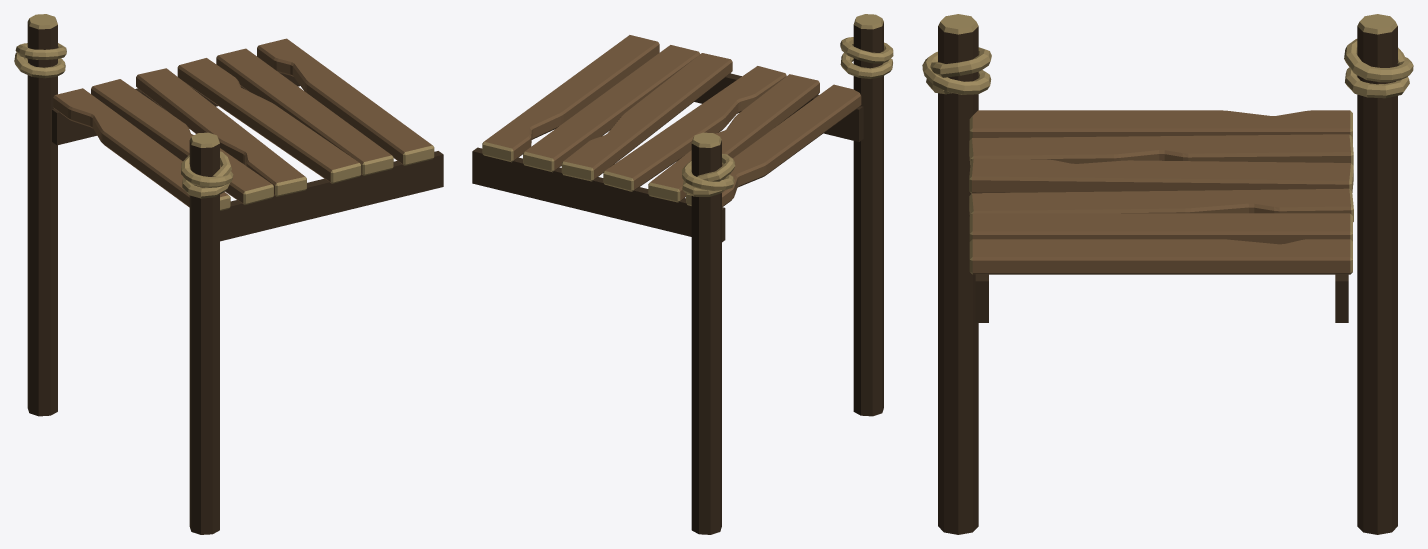
File: cc0-dock.glb
3 views of the same model, side by side, from view 1: azimuth 30°, elevation 25°; view 2: azimuth 150°, elevation 25°; view 3: azimuth 270°, elevation 25° (orthographic). The views are drawn at different scales.
Parts seen in each view (by area): view 1: cc0-dock; view 2: cc0-dock; view 3: cc0-dock.
Part boxes in pixels (x1,y1,x2,y2): cc0-dock: (14, 14, 443, 534); cc0-dock: (472, 14, 893, 534); cc0-dock: (922, 14, 1413, 534).
Bounding box in the file's own units: 4.93 × 6.8 × 6.
